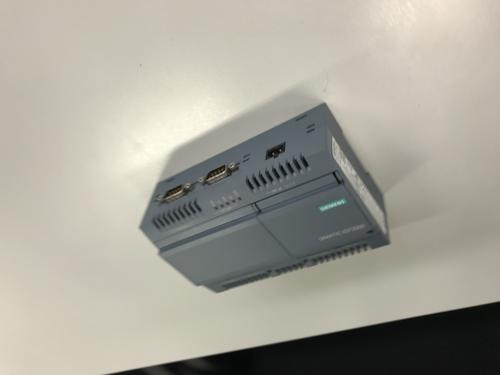device: (110, 82, 362, 273)
